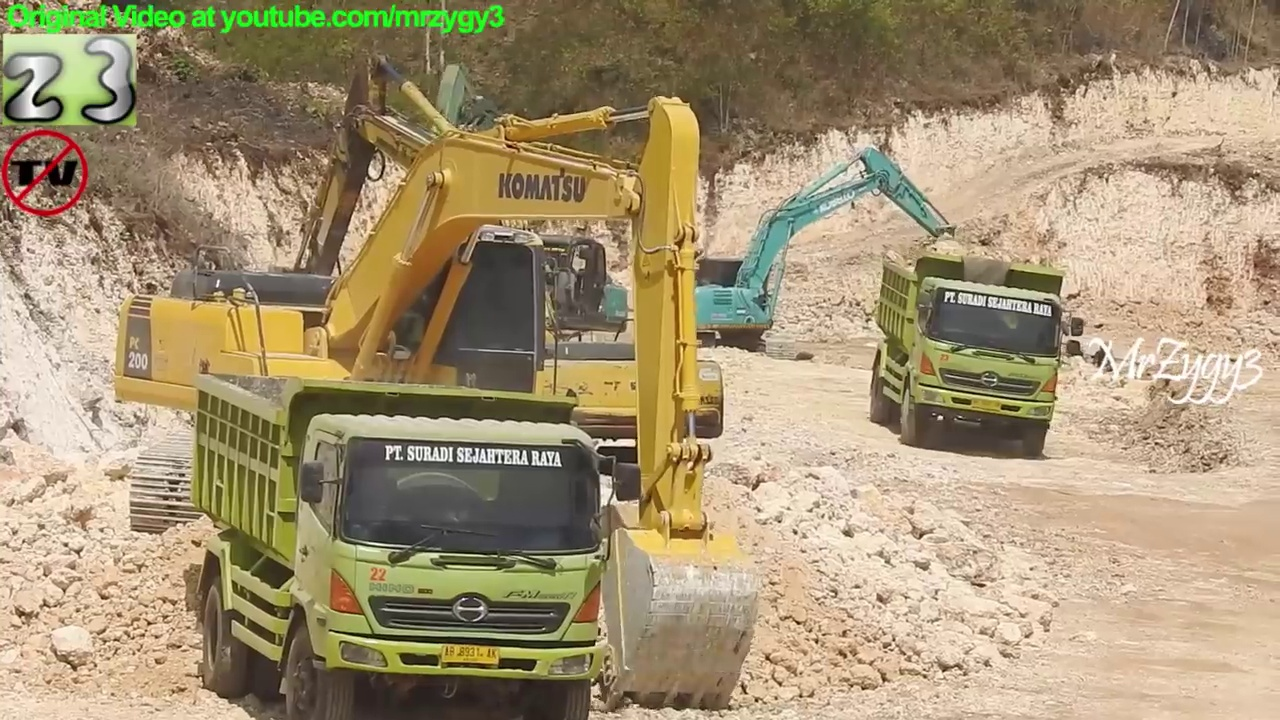excavator: (107, 90, 767, 714), (237, 48, 730, 499), (384, 61, 640, 374), (640, 138, 967, 368)
truck: (186, 361, 652, 720), (861, 247, 1092, 462)
